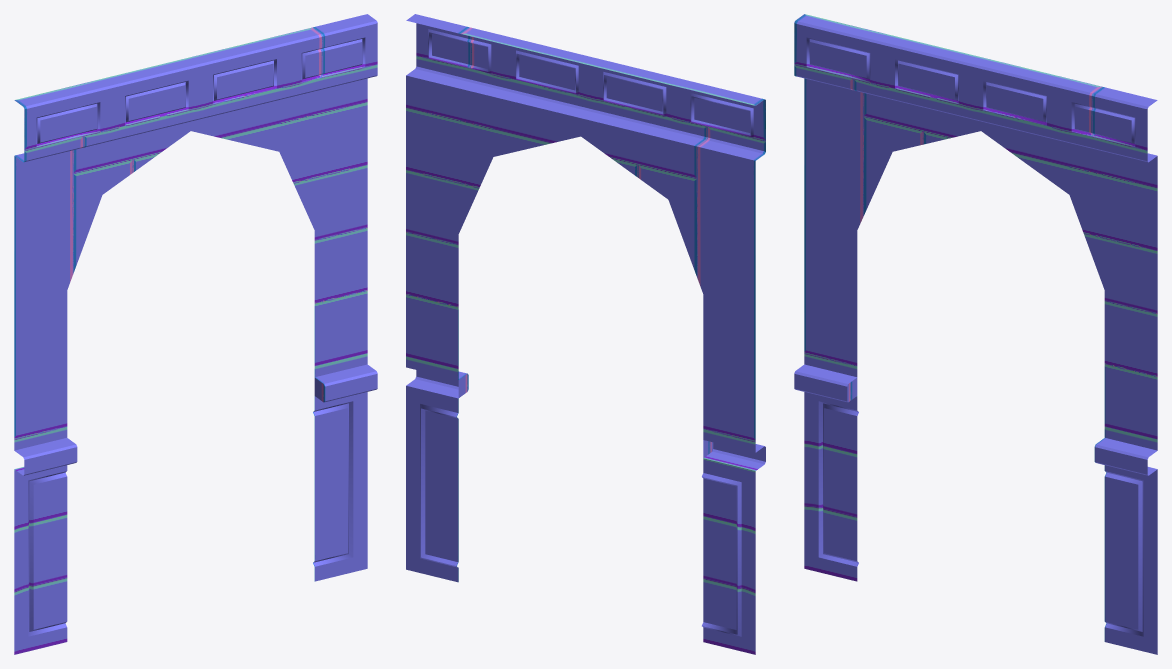
The model's file is Foyer Wall Double Doorway.fbx.
3 views of the same model, side by side, from view 1: azimuth 30°, elevation 25°; view 2: azimuth 150°, elevation 25°; view 3: azimuth 330°, elevation 25° (orthographic).
Visible parts, largest first — view 1: Normal_Wall_Double_Doorway; view 2: Normal_Wall_Double_Doorway; view 3: Normal_Wall_Double_Doorway.
Part boxes in pixels (x1,y1,x2,y2): Normal_Wall_Double_Doorway: [14, 14, 377, 654]; Normal_Wall_Double_Doorway: [406, 14, 765, 654]; Normal_Wall_Double_Doorway: [794, 14, 1157, 654].
Bounding box in the file's own units: 200 × 300 × 11.67.
